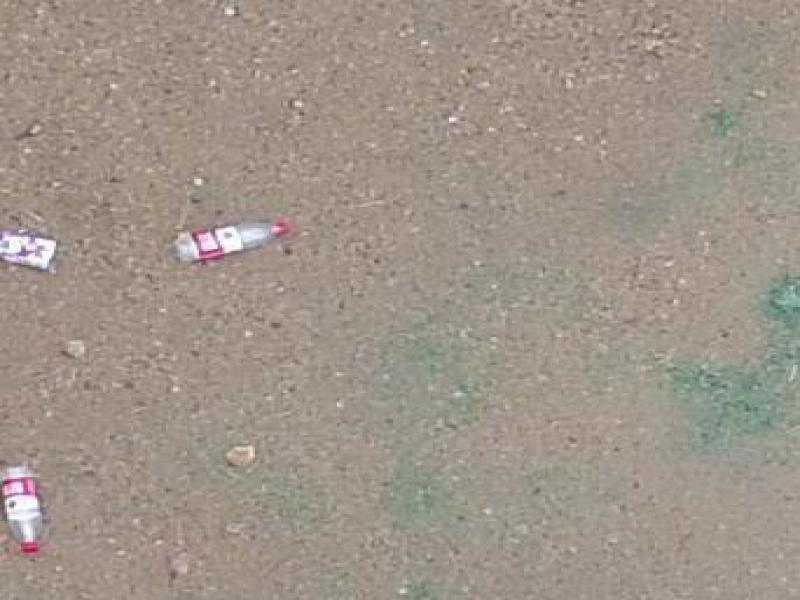bottle: (163, 213, 295, 268), (0, 464, 52, 554), (0, 233, 66, 272)
